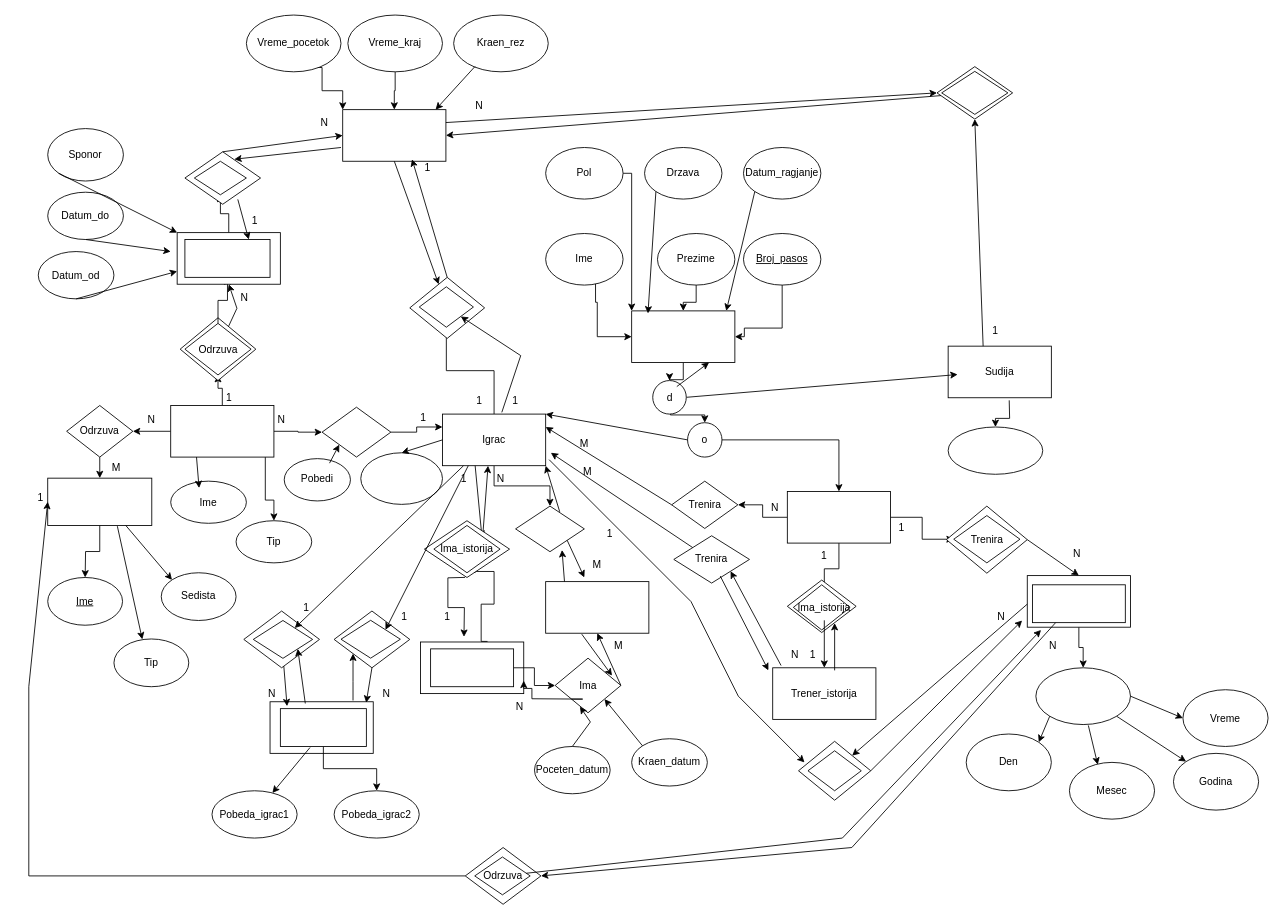
Image size: 1283x919. Some labels were removed from this diagram. Each missing label, with the box of its shape:
Datum: (1035, 667, 1130, 725)
Godina_zap: (360, 452, 442, 504)
Head_to_head: (280, 708, 366, 746)
Igra: (194, 160, 246, 195)
Igraat: (418, 286, 473, 327)
Igrac1: (252, 620, 313, 658)
Igrac2: (340, 619, 400, 658)
Igral: (807, 750, 861, 791)
Iskustvo: (947, 426, 1043, 474)
Naj_igrac: (321, 406, 391, 457)
Natprevar: (342, 109, 446, 161)
Odrzan_turnir: (184, 239, 270, 277)
Rang_istorija: (430, 648, 514, 687)
Rang_mesto: (545, 581, 649, 633)
Rangiran: (515, 505, 584, 552)
Sudi: (941, 71, 1008, 114)
Teren: (47, 477, 152, 525)
Trener: (786, 491, 891, 543)
Trening: (1032, 584, 1125, 623)
Turnir: (170, 405, 274, 457)
Ucesnik: (631, 310, 735, 362)
